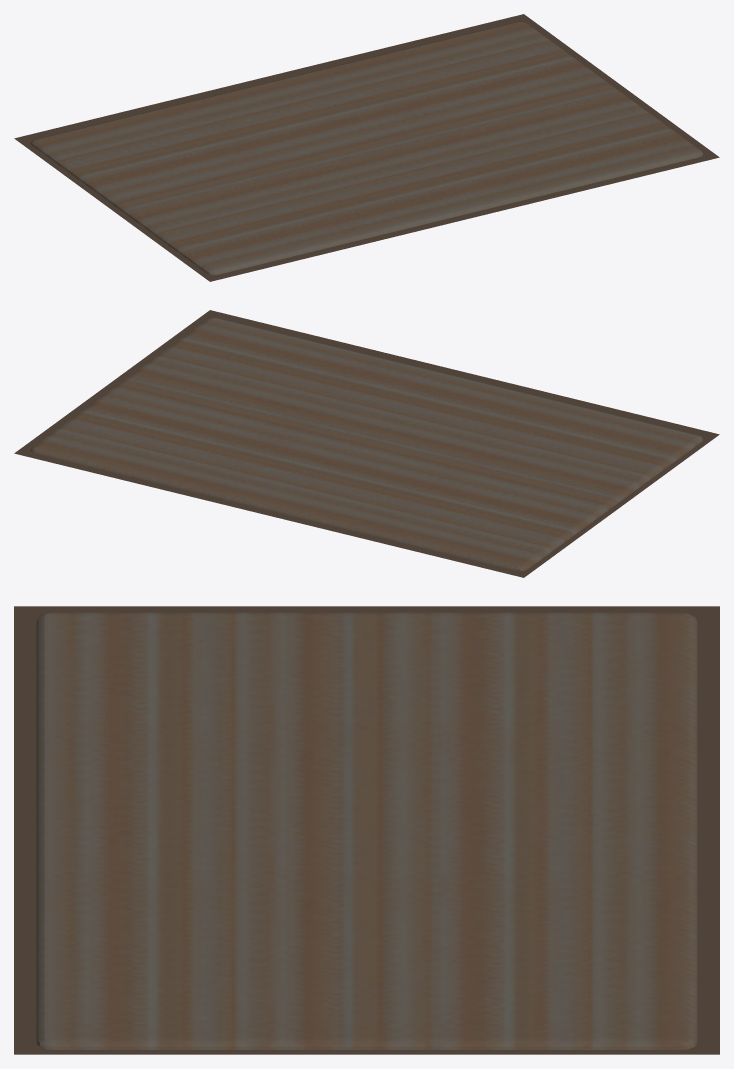
File: SM_Carpet_05.fbx
3 renders of one model, top to bottom at view 1: azimuth 30°, elevation 25°; view 2: azimuth 150°, elevation 25°; view 3: azimuth 270°, elevation 25°, orthographic. The views are drawn at different scales.
Parts seen in each view (by area): view 1: SM_Carpet_05_LOD0; view 2: SM_Carpet_05_LOD0; view 3: SM_Carpet_05_LOD0.
Boxes of the visible parts, x1=… form: SM_Carpet_05_LOD0: x1=14, y1=14, x2=719, y2=281; SM_Carpet_05_LOD0: x1=14, y1=310, x2=719, y2=577; SM_Carpet_05_LOD0: x1=14, y1=606, x2=719, y2=1054.
Size of the model in its own units: 209 by 139 by 1.16.
1 material, 1 textured.
